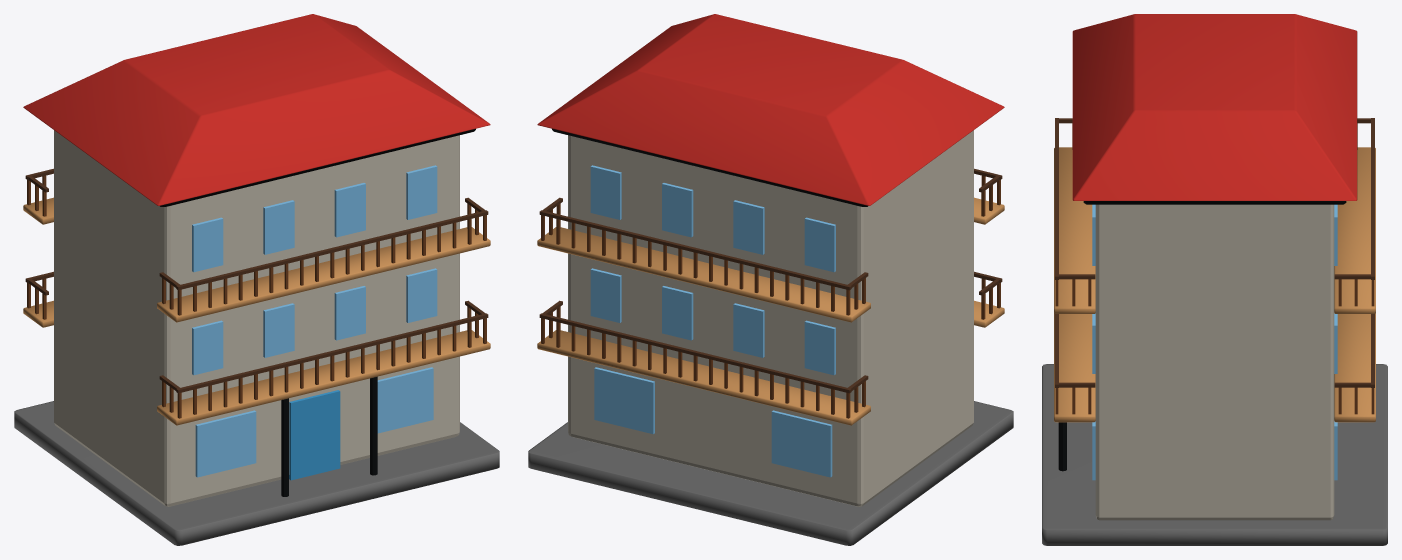
File: Hotel2.fbx
3 renders of one model, left to right at view 1: azimuth 30°, elevation 25°; view 2: azimuth 150°, elevation 25°; view 3: azimuth 270°, elevation 25°, orthographic. The views are drawn at different scales.
Visible parts, largest first — view 1: alap; view 2: alap; view 3: alap.
Boxes of the visible parts, bbox=[...] form: alap: bbox=[14, 14, 499, 545]; alap: bbox=[528, 14, 1013, 545]; alap: bbox=[1042, 14, 1387, 545].
Bounding box in the file's own units: 6.77 × 7.42 × 5.8.
1 material, 1 textured.
